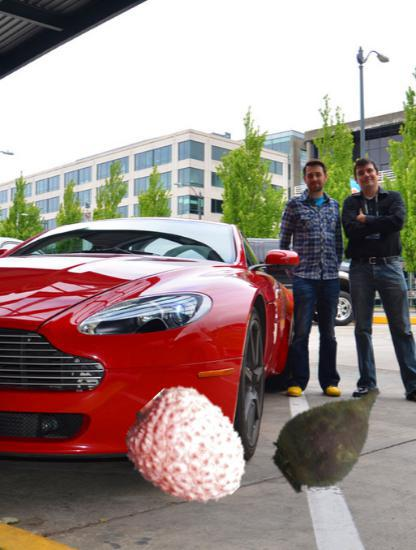Beetroot: (267, 369, 403, 505)
Lychee: (126, 389, 250, 513)
